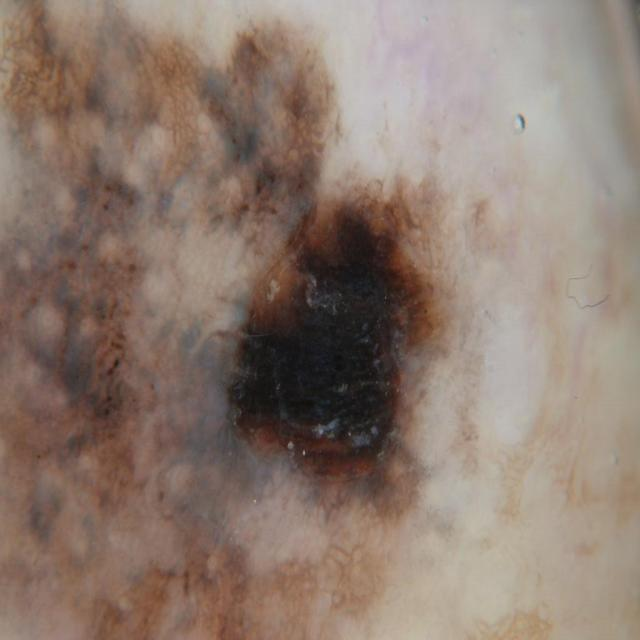Skin-Cancer Melanoma: (2, 4, 519, 640)
